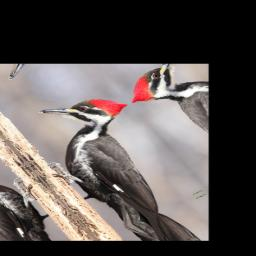Woodpecker: (8, 79, 206, 234)
